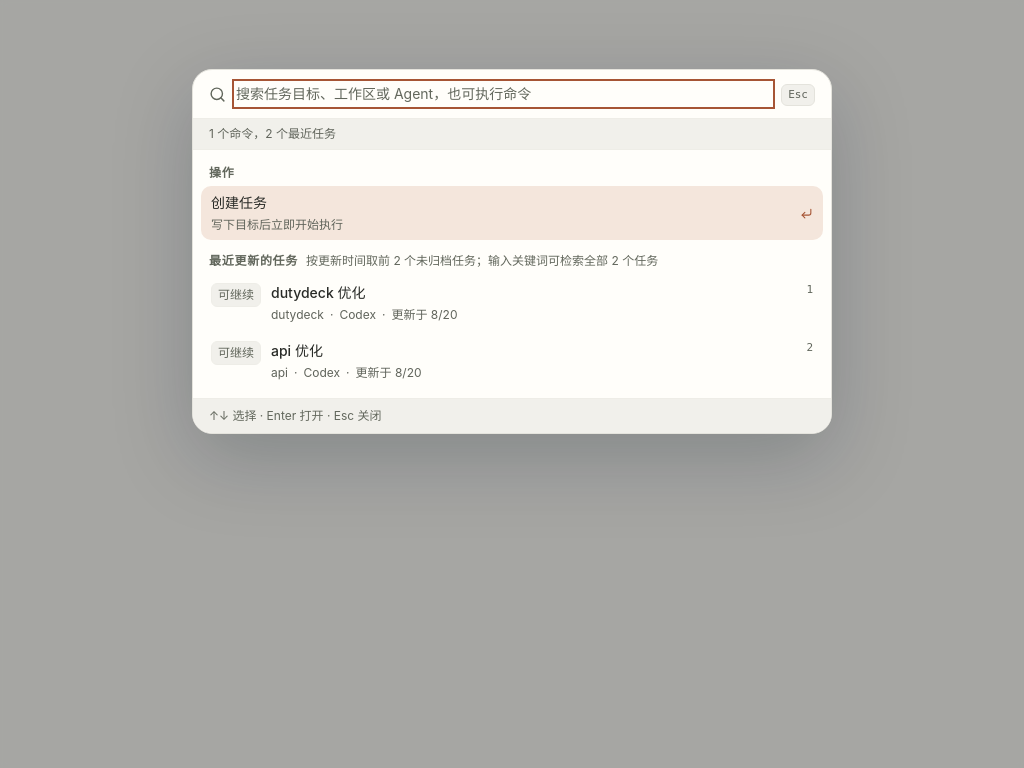
CommandPalette 开合与筛选 › 结果条数写在 aria-live=polite 的状态区域里
Expected: the message reads "1 个命令，2 个最近任务", [209,126,336,141]
Type "优化" into the dropdown named "搜索任务与命令" at (504, 94), box [236,83,771,105]
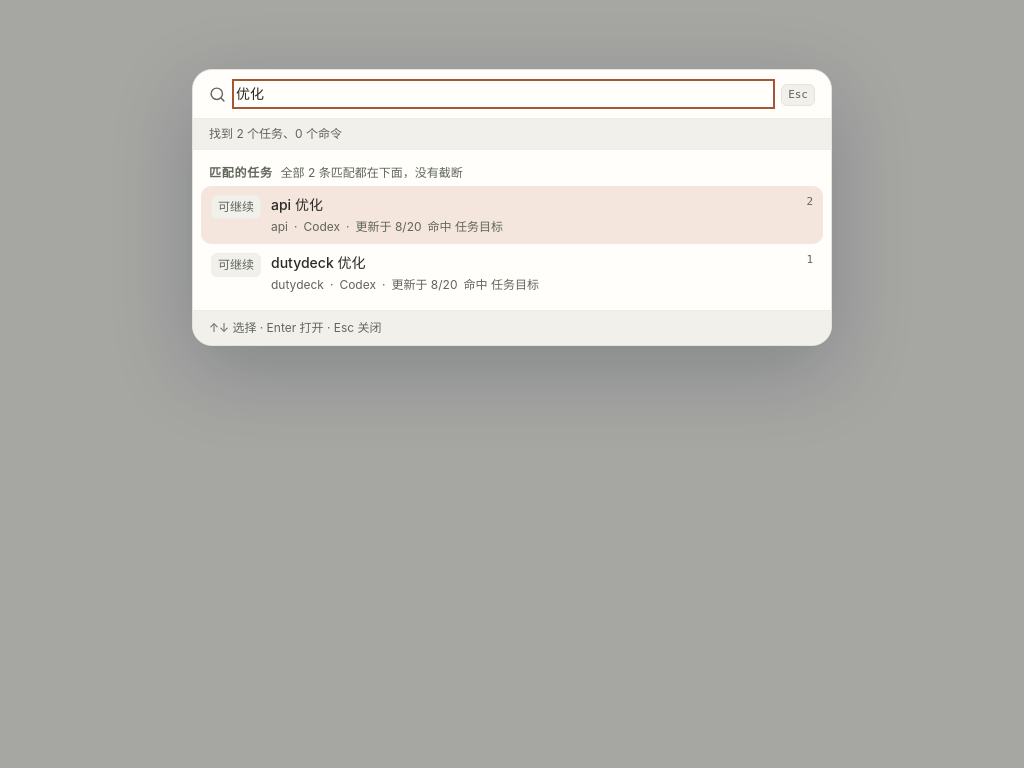
Expected: the message reads "找到 2 个任务、0 个命令", [209,126,342,141]
